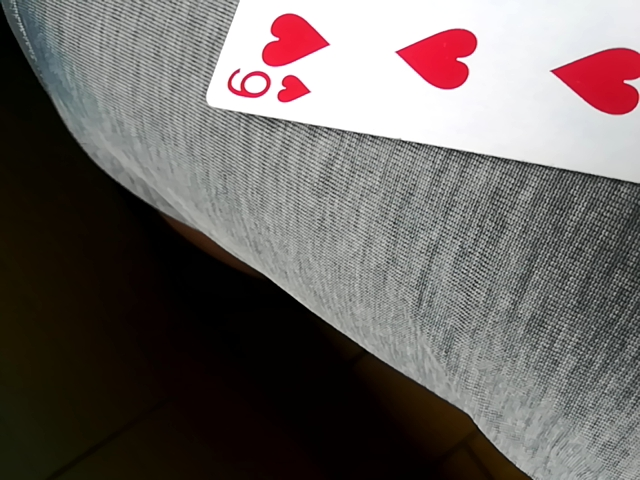hx 6: (209, 0, 636, 186)
